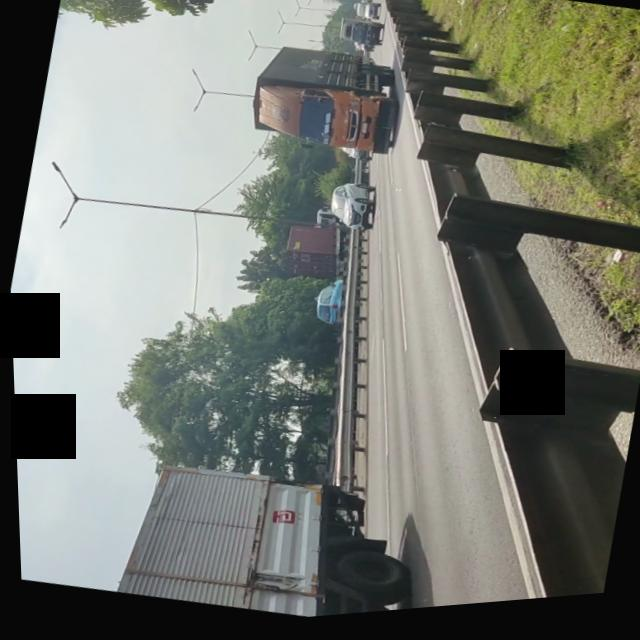Golongan I: (312, 175, 385, 240)
Golongan III: (236, 31, 412, 174)
